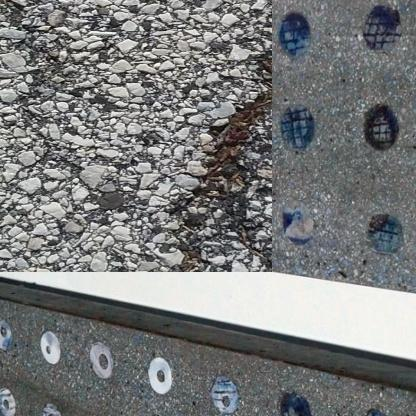Cracks: (156, 41, 251, 251), (0, 0, 58, 109)
